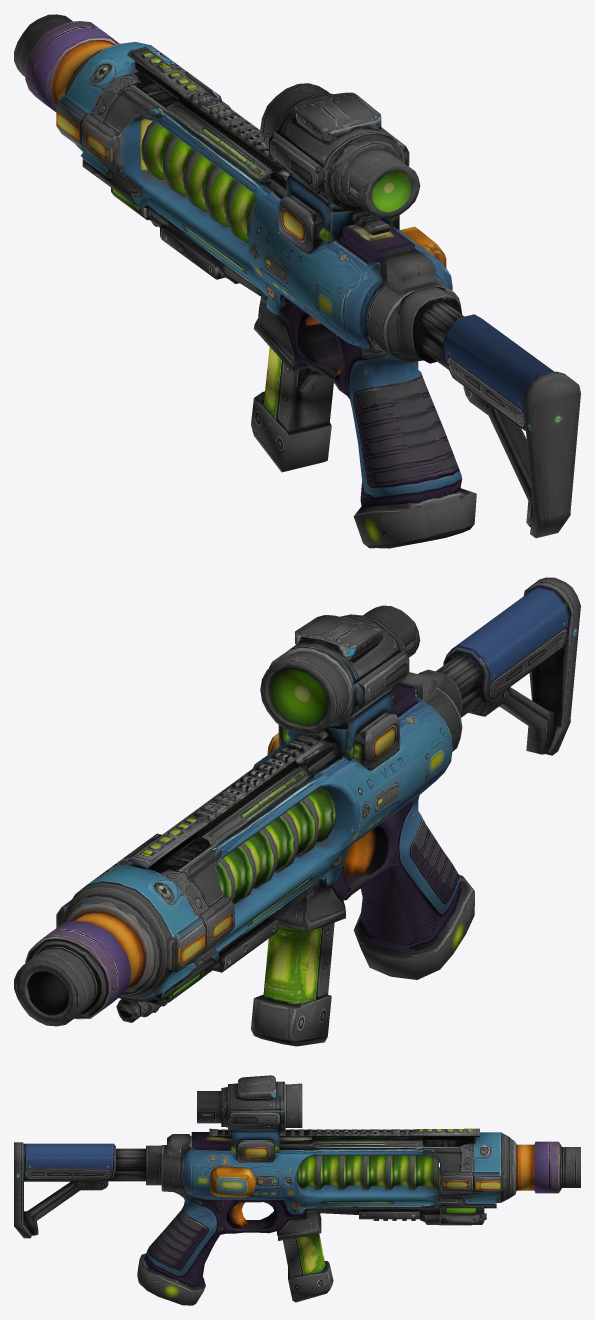
File: 2_Rifle.glb
The picture shows the model from 3 angles, top to bottom: view 1: azimuth 30°, elevation 25°; view 2: azimuth 150°, elevation 25°; view 3: azimuth 270°, elevation 25°; orthographic projection. The views are drawn at different scales.
Visible parts, largest first — view 1: tripo_node_ae400a99-4166-4428-ae06-00ee3067df84; view 2: tripo_node_ae400a99-4166-4428-ae06-00ee3067df84; view 3: tripo_node_ae400a99-4166-4428-ae06-00ee3067df84.
Part boxes in pixels (left/top/right/bottom): tripo_node_ae400a99-4166-4428-ae06-00ee3067df84: left=14, top=14, right=580, bottom=548; tripo_node_ae400a99-4166-4428-ae06-00ee3067df84: left=14, top=577, right=580, bottom=1046; tripo_node_ae400a99-4166-4428-ae06-00ee3067df84: left=14, top=1075, right=580, bottom=1305.
Bounding box in the file's own units: 0.1582 × 0.4238 × 0.998.
1 material, 1 textured.
